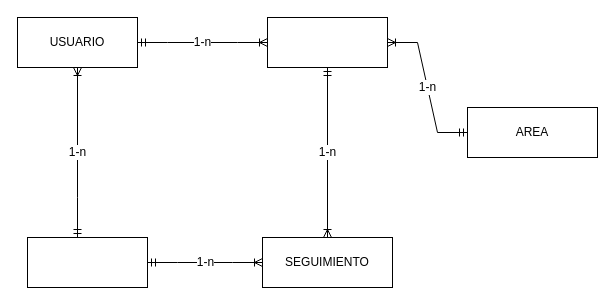
This 615x305 diagram has some shape labels left out. The shapes that lost their labels are listed below. From the top down, each one's centre as x and y in pixels, then its label:
(327,42): TICKET
(87,262): PERSONAL
